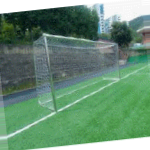goals: (31, 30, 123, 112)
